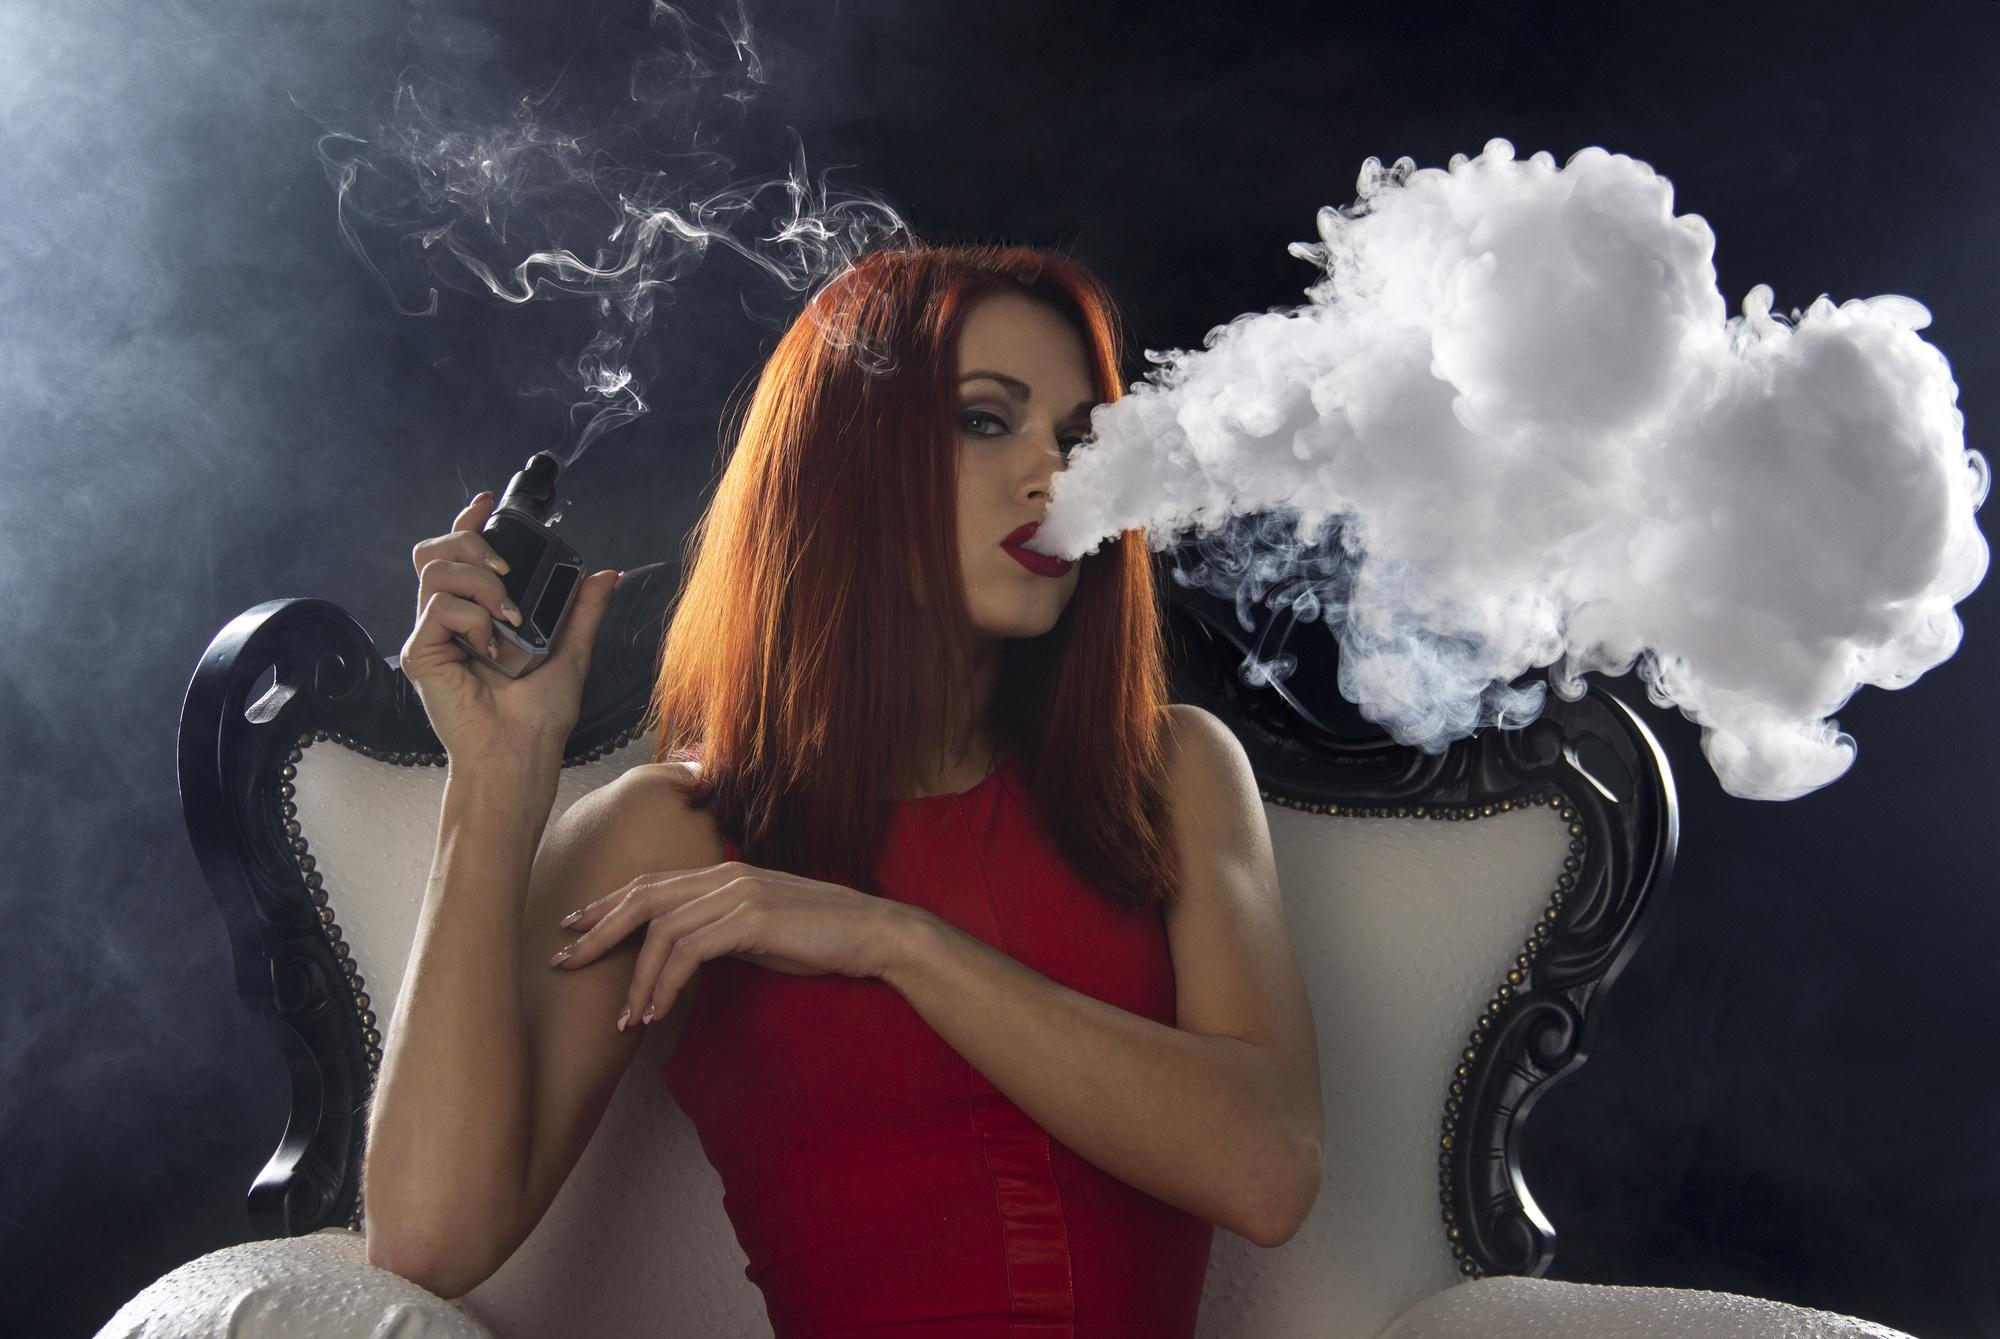Vape: (482, 451, 581, 675)
